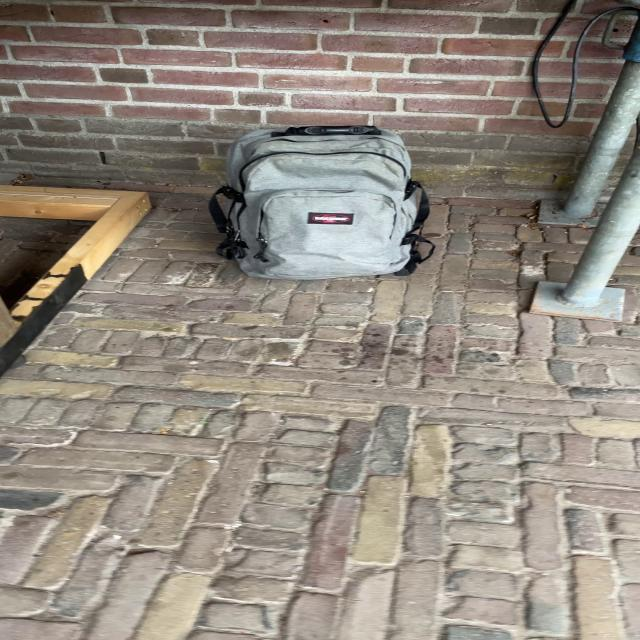backpack: (200, 116, 437, 284)
